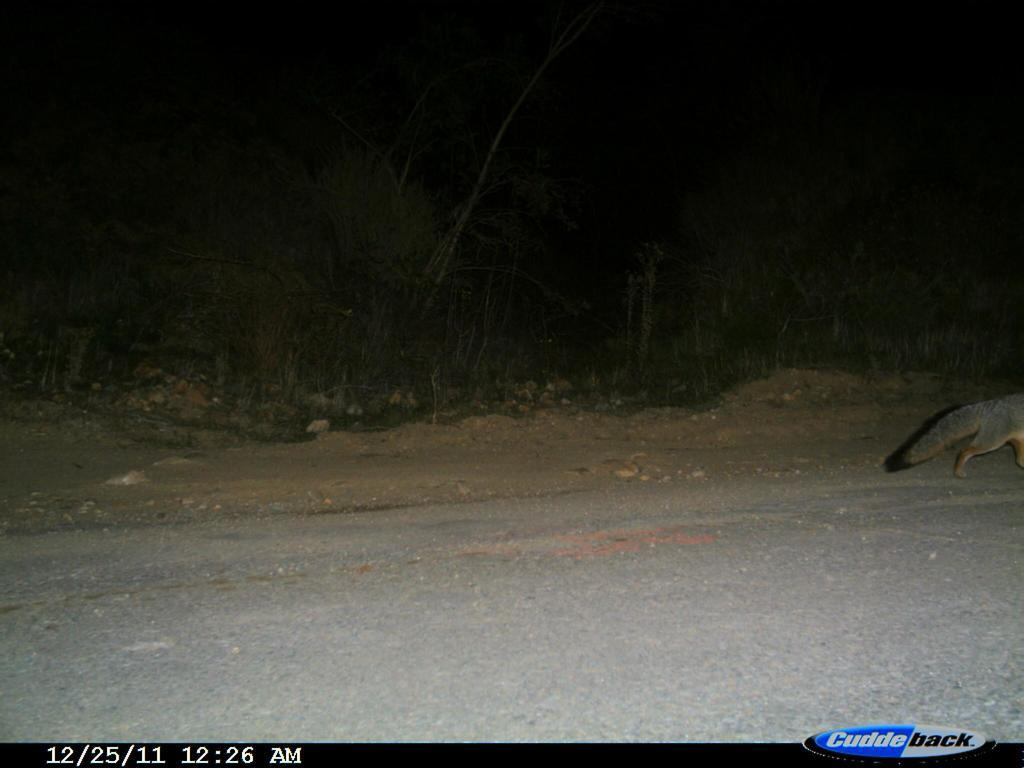coyote: (914, 382, 1024, 505)
